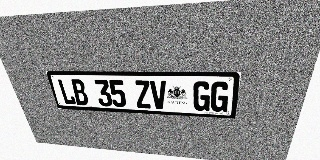3: (94, 80, 113, 107)
5: (108, 80, 127, 107)
B: (70, 79, 90, 105)
G: (210, 81, 230, 112), (193, 81, 211, 111)
L: (57, 79, 77, 105)
V: (150, 80, 167, 109)
Z: (134, 80, 152, 108)
